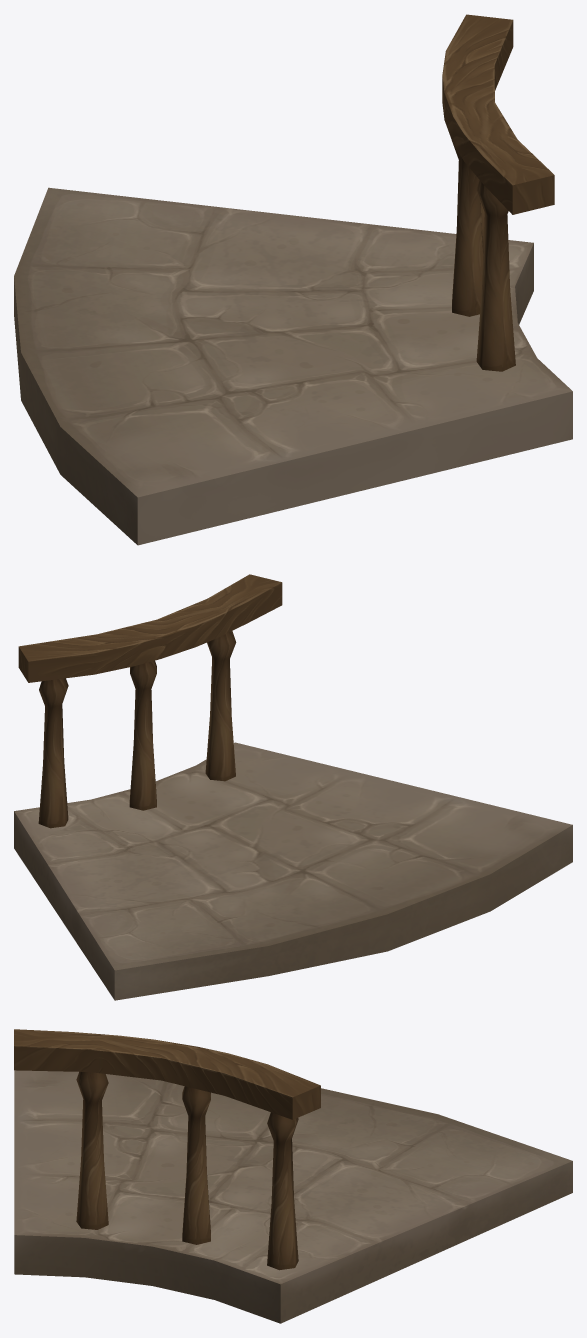
Rendered from Balcony.FBX.
3 views of the same model, one above another, from view 1: azimuth 30°, elevation 25°; view 2: azimuth 150°, elevation 25°; view 3: azimuth 270°, elevation 25° (orthographic). The views are drawn at different scales.
Parts seen in each view (by area): view 1: Balcony; view 2: Balcony; view 3: Balcony.
Boxes of the visible parts, <box> form: Balcony: <box>14,14,572,545</box>; Balcony: <box>14,574,572,1000</box>; Balcony: <box>14,1029,572,1323</box>.
Bounding box in the file's own units: 2801 × 1289 × 2956.
